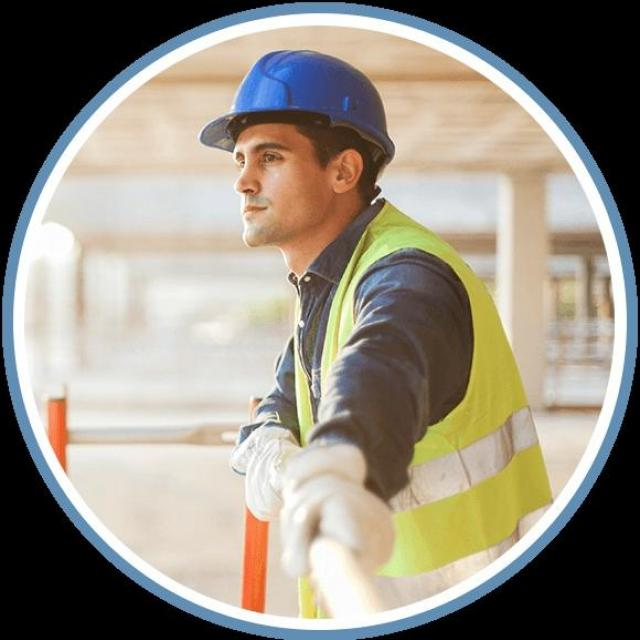Reflective-Jacket: (285, 206, 565, 627)
Safety-Helmet: (194, 46, 405, 166)
